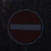No entry: (6, 6, 46, 46)
